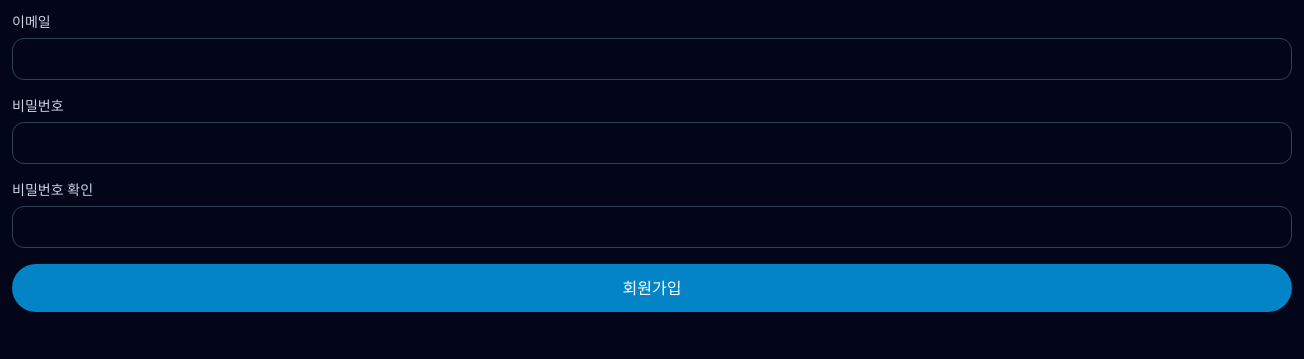
Test: SignupForm › shows a password length error for a short password
Type "user@example.com" into the field labelled "이메일". click: (652, 59)
box: left=12, top=38, right=1292, bottom=80
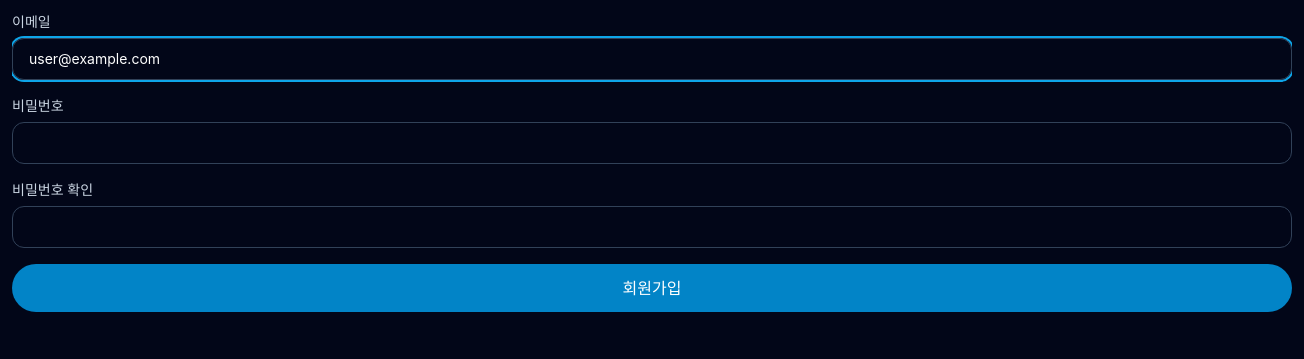
Type "short1" into the password field labelled "비밀번호". click: (652, 143)
box: left=12, top=122, right=1292, bottom=164
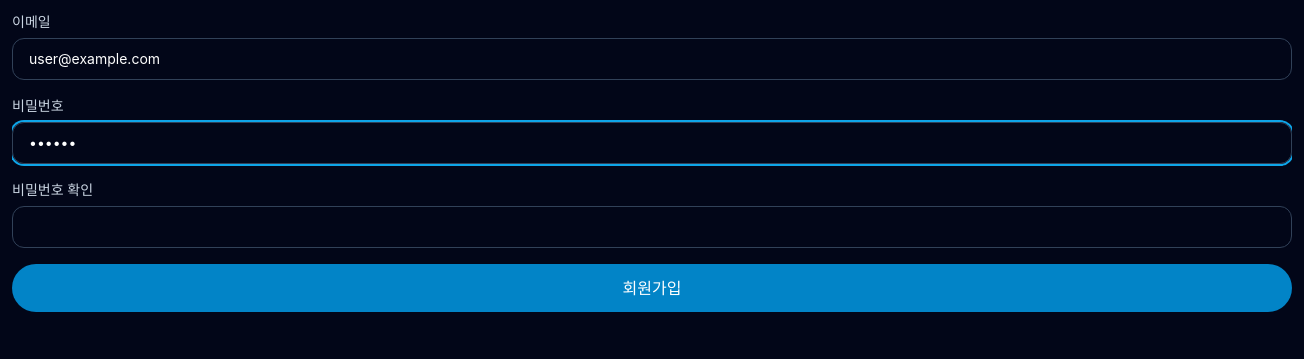
Type "short1" into the password field labelled "비밀번호 확인". click: (652, 227)
box: left=12, top=206, right=1292, bottom=248
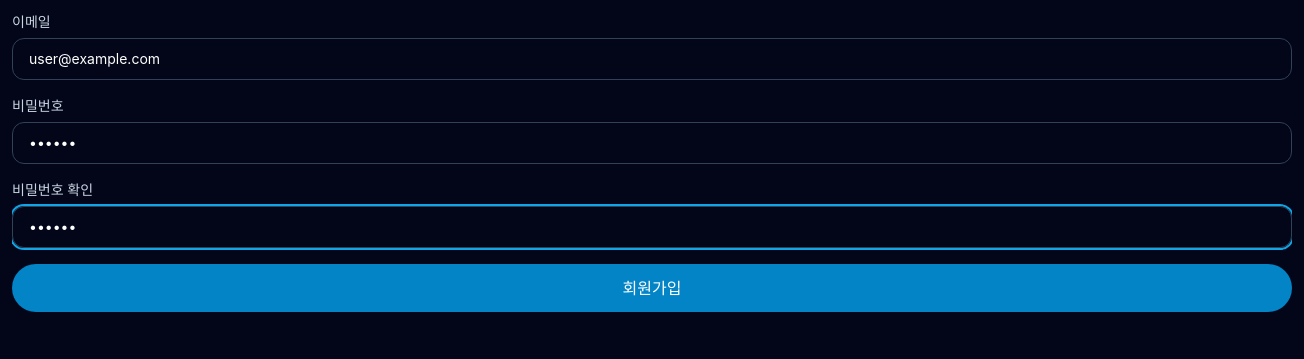
Click the button "회원가입". click: (652, 288)
box: left=12, top=264, right=1292, bottom=312
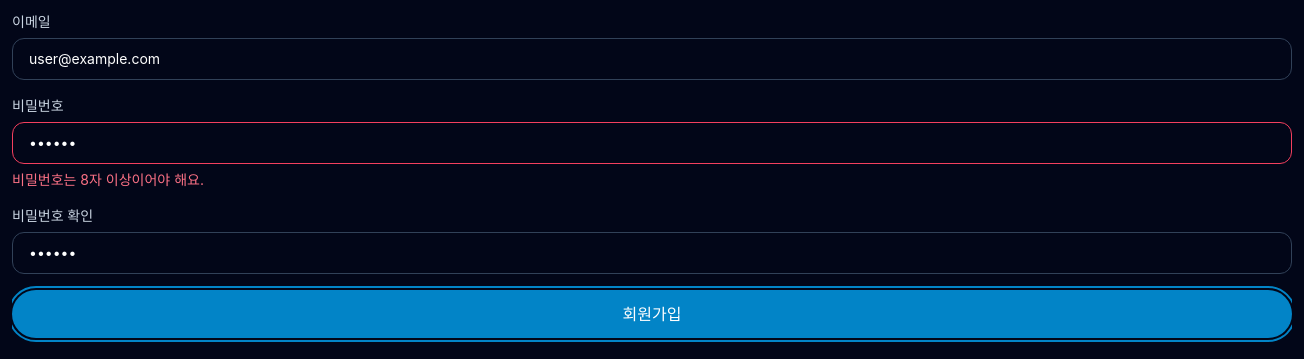
Now the text "비밀번호는 8자 이상이어야 해요." is shown, box left=12, top=171, right=204, bottom=188
